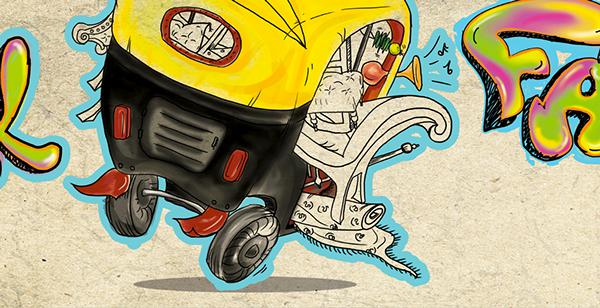car: (91, 2, 424, 275)
